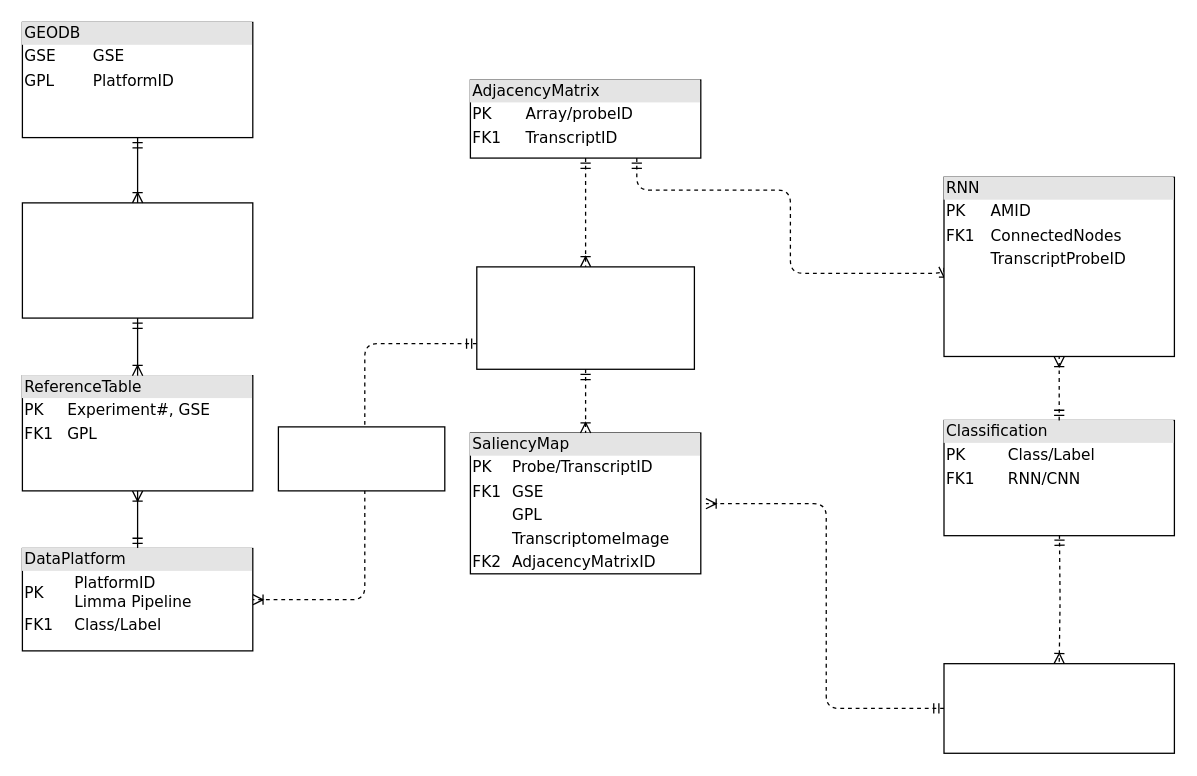
Image size: 1197x776. Some labels were removed from this diagram. Each missing label, with the box of its shape:
CNN PK 20KMapIDs FK1 Class/Label: (943, 662, 1174, 753)
CytoScape CYTID TranscriptIDs: (277, 426, 445, 491)
SangerDB SDB Sanger DB IDs GSE GSE ID: (21, 202, 253, 318)
TranscriptomeNetwork PK Transcript/probeID FK1 ArrayRef @probeIFD: (476, 266, 694, 369)
